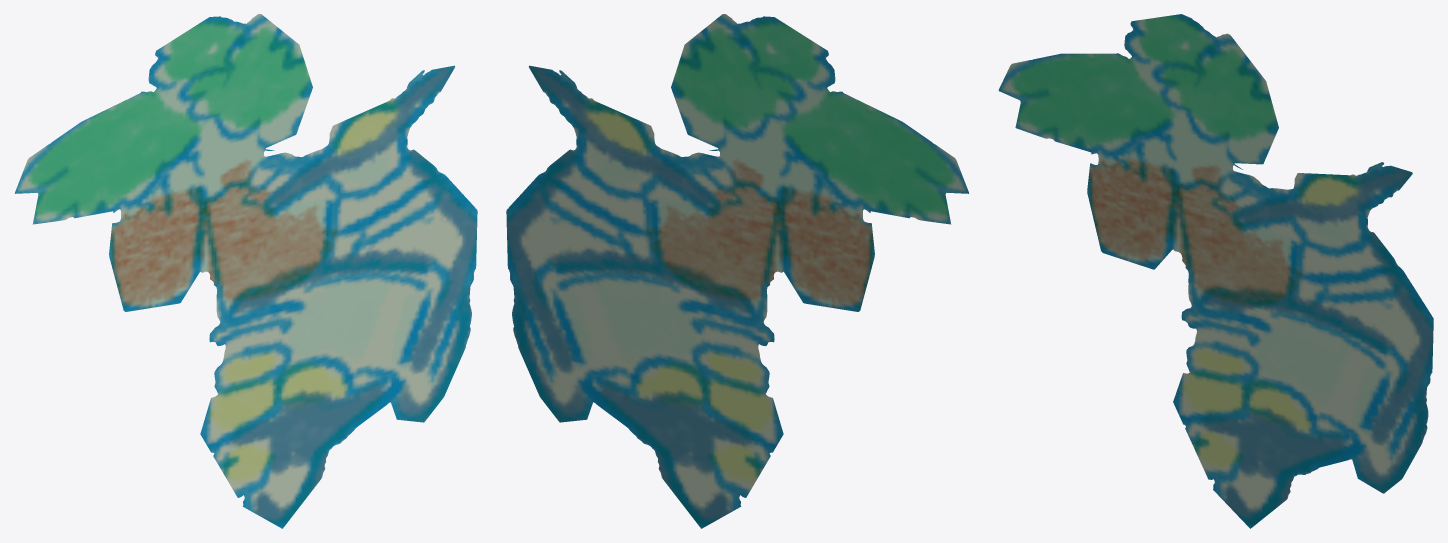
File: house_3_bike2.fbx
3 renders of one model, left to right at view 1: azimuth 30°, elevation 25°; view 2: azimuth 150°, elevation 25°; view 3: azimuth 330°, elevation 25°, orthographic. The views are drawn at different scales.
Visible parts, largest first — view 1: mask10; view 2: mask10; view 3: mask10.
Boxes of the visible parts, box(x1,y1,x2,y2) form: mask10: box(15, 14, 477, 528); mask10: box(506, 14, 968, 528); mask10: box(998, 14, 1433, 528).
Size of the model in its own units: 3.85 by 4.21 by 1.53e-07.
1 material, 1 textured.
